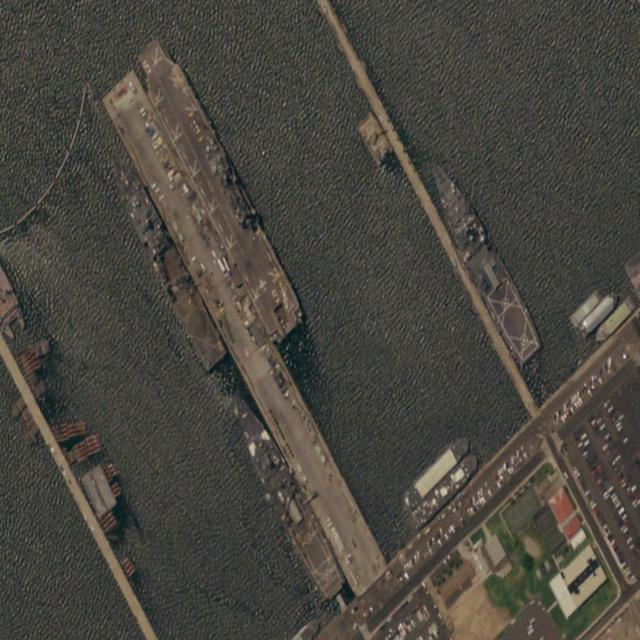Landing: (130, 29, 308, 351), (99, 142, 228, 374), (418, 147, 544, 369), (222, 382, 348, 602)
